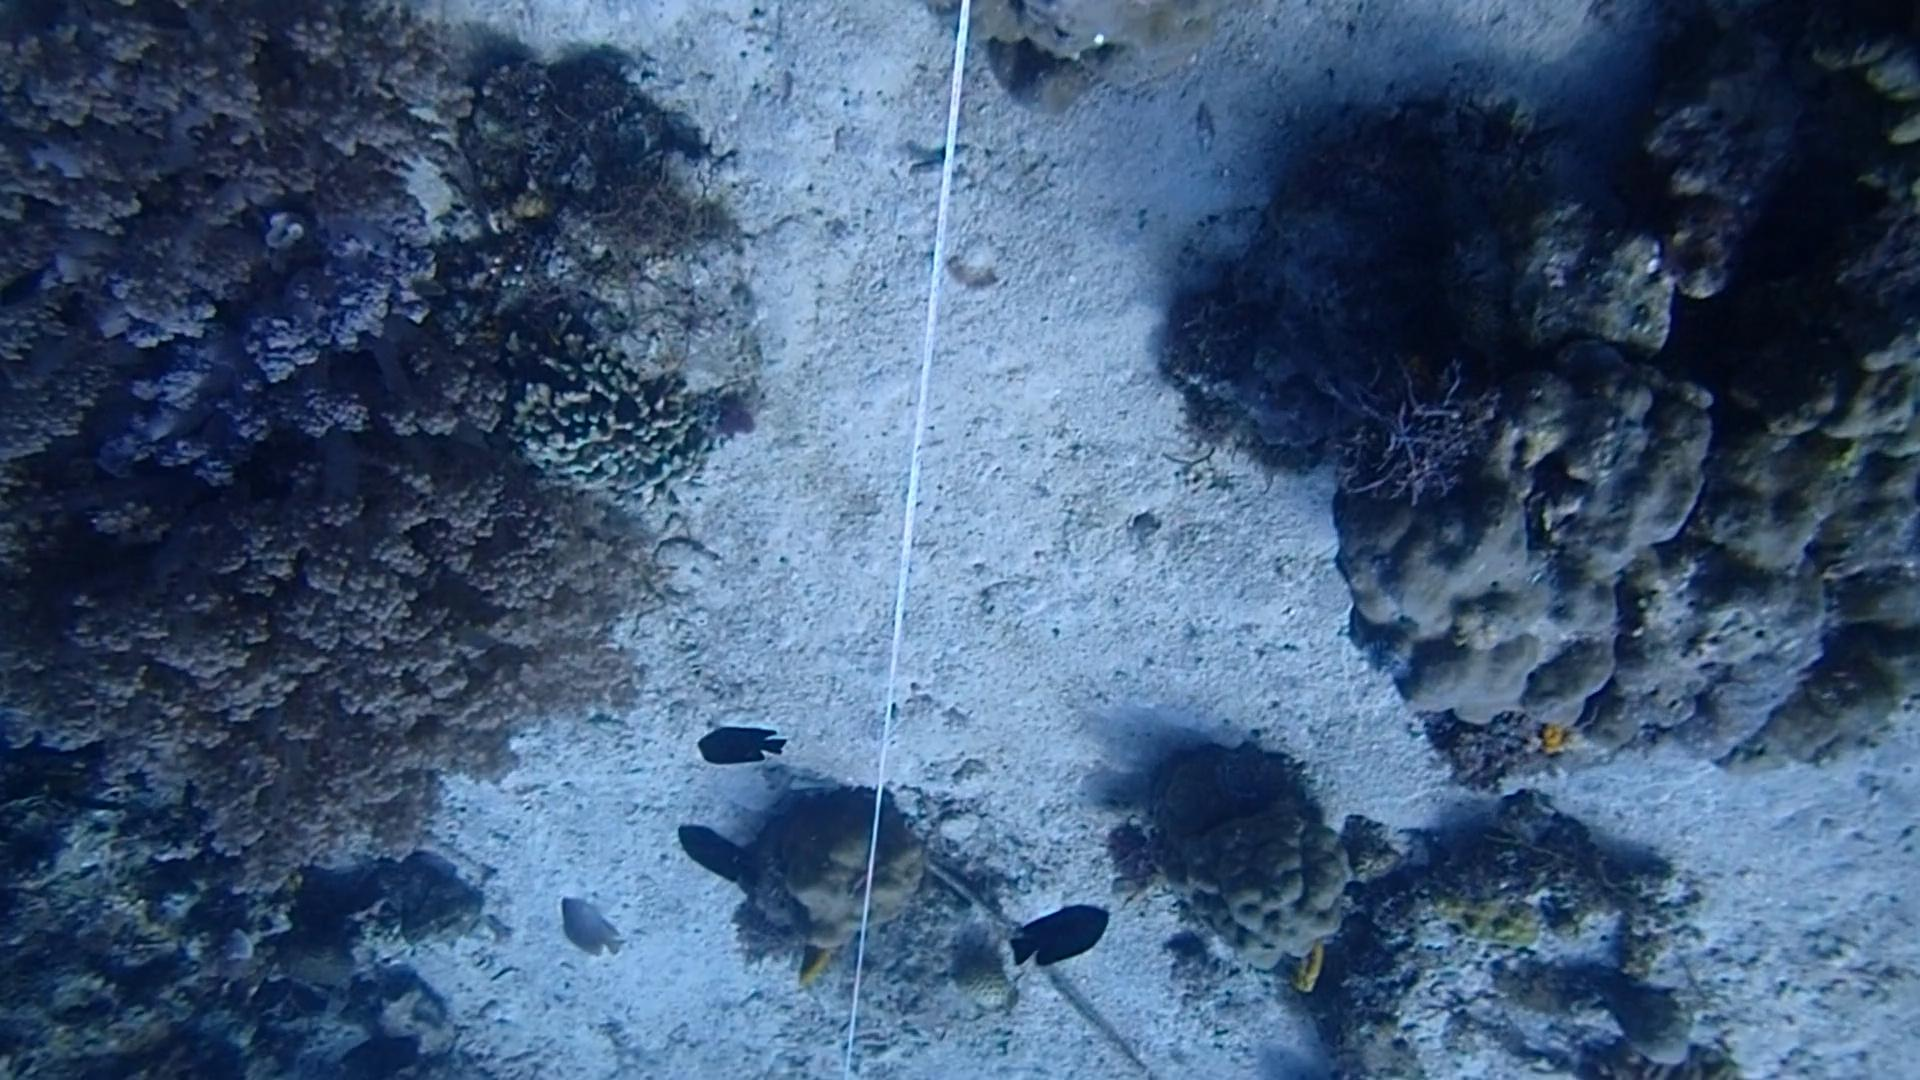Dark Fish: (667, 820, 767, 905), (1009, 901, 1108, 975), (698, 715, 789, 770), (0, 266, 62, 315)
Light Fish: (546, 890, 636, 969)
